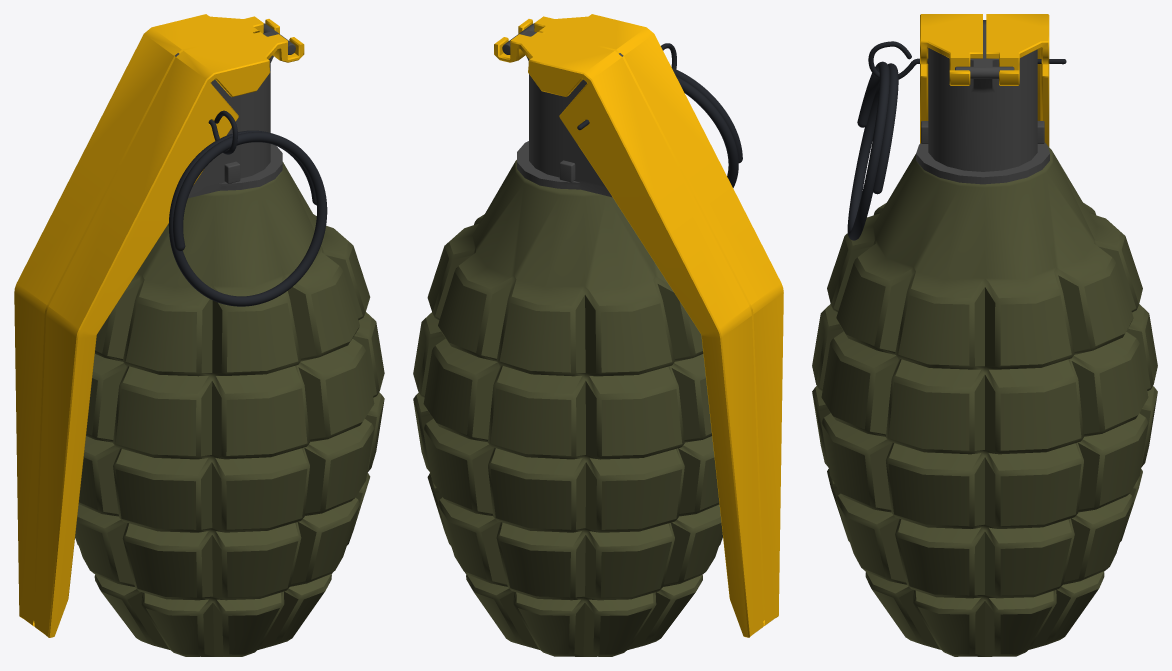
Rendered from Granada.fbx.
3 renders of one model, left to right at view 1: azimuth 30°, elevation 25°; view 2: azimuth 150°, elevation 25°; view 3: azimuth 270°, elevation 25°, orthographic.
Parts seen in each view (by area): view 1: Cilindro_3, Cilindro_1, Anillo, Cilindro_2; view 2: Cilindro_3, Cilindro_1, Cilindro_2, Anillo; view 3: Cilindro_3, Cilindro_2, Cilindro_1, Anillo, Gancho, Cilindro.
Boxes of the visible parts, x1,y1,x2,y2 form: Cilindro_3: (75,162,384,656); Cilindro_1: (14,14,304,637); Anillo: (168,130,327,306); Cilindro_2: (174,31,282,198); Cilindro_3: (413,160,722,656); Cilindro_1: (494,14,783,637); Cilindro_2: (517,30,623,197); Anillo: (672,67,742,187); Cilindro_3: (812,143,1157,656); Cilindro_2: (916,20,1049,184); Cilindro_1: (920,14,1049,146); Anillo: (847,61,898,240); Gancho: (868,41,1063,79); Cilindro: (955,66,1014,78).
Bounding box in the file's own units: 146 × 253 × 132.
